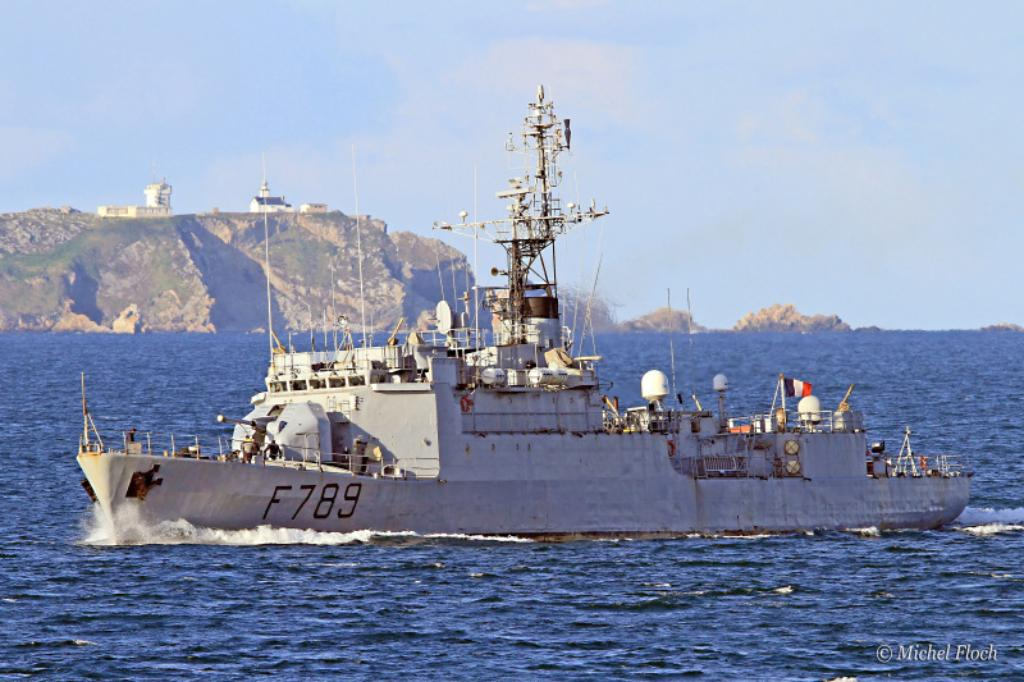Warship: (68, 85, 972, 543)
